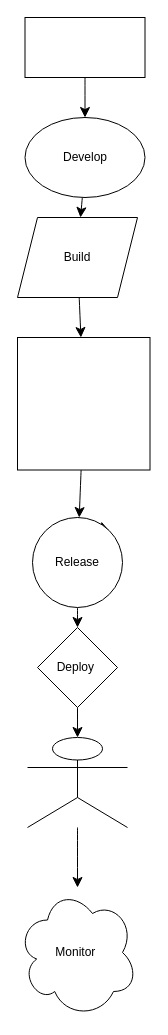
Some shapes in this 168 by 1035 pixel diagram are drawn without their labels. Each missing label, with the box of its shape:
Actor: (26, 736, 128, 828)
Plan: (24, 16, 145, 78)
Text: (16, 336, 150, 470)
